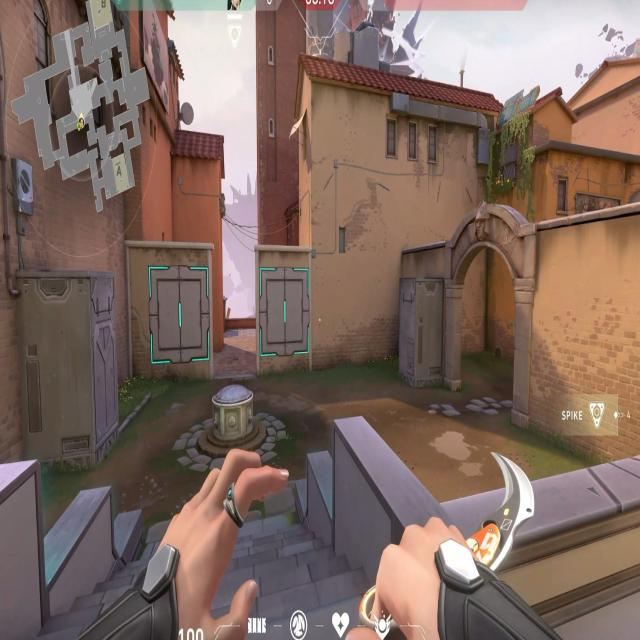Mid_Wall: (124, 236, 214, 372), (253, 238, 313, 368)
